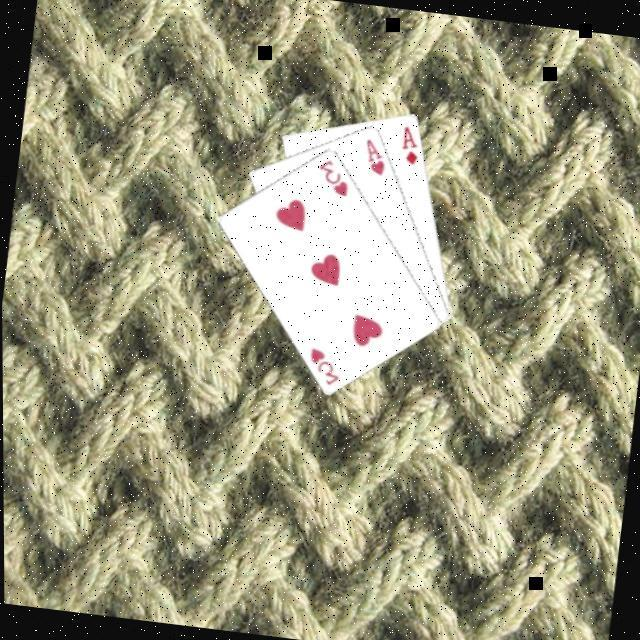3H: (301, 341, 343, 387), (311, 154, 353, 198)
AD: (396, 120, 423, 166)
AH: (357, 133, 389, 177)
